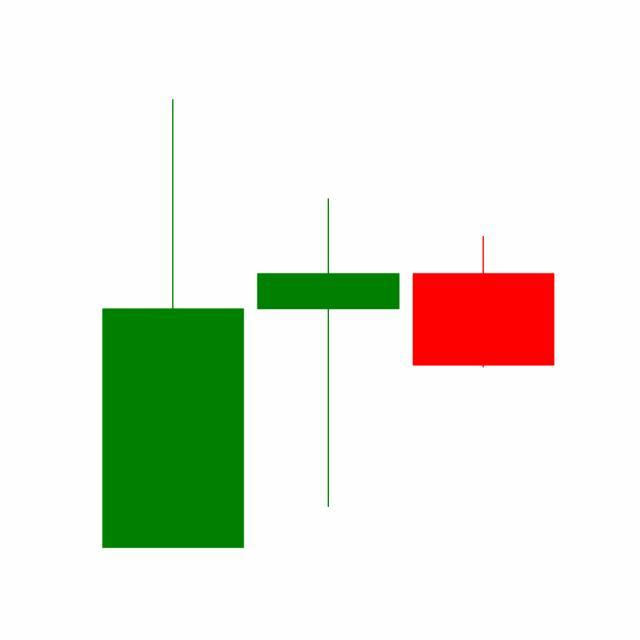Spinning Top: (250, 196, 407, 512)
